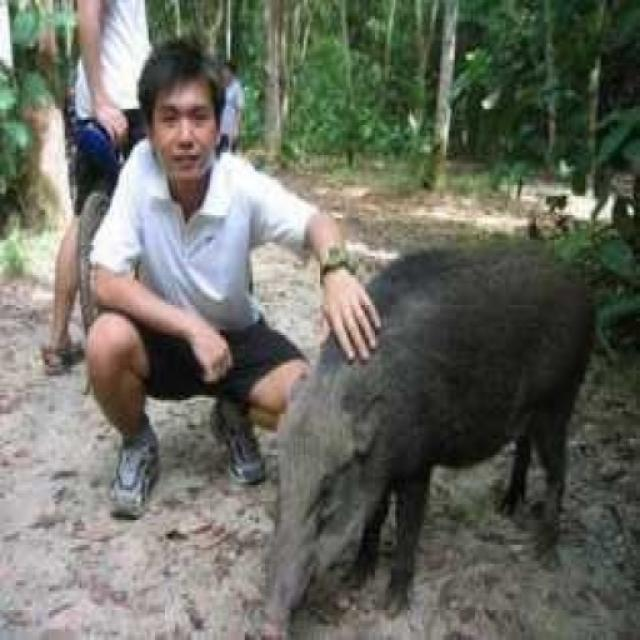pig: (240, 200, 636, 588)
